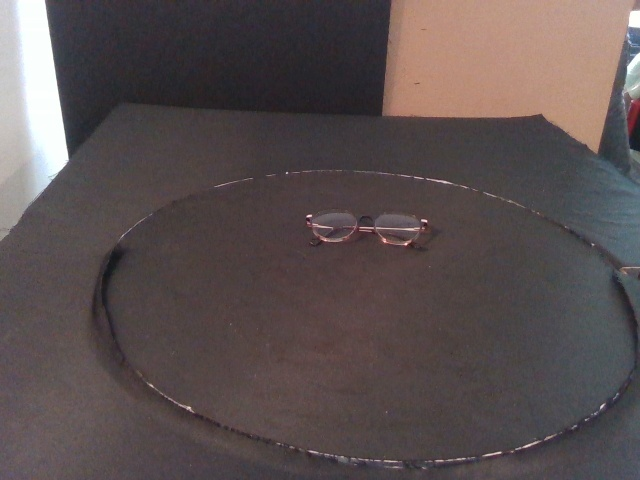glasses: (305, 208, 431, 251)
